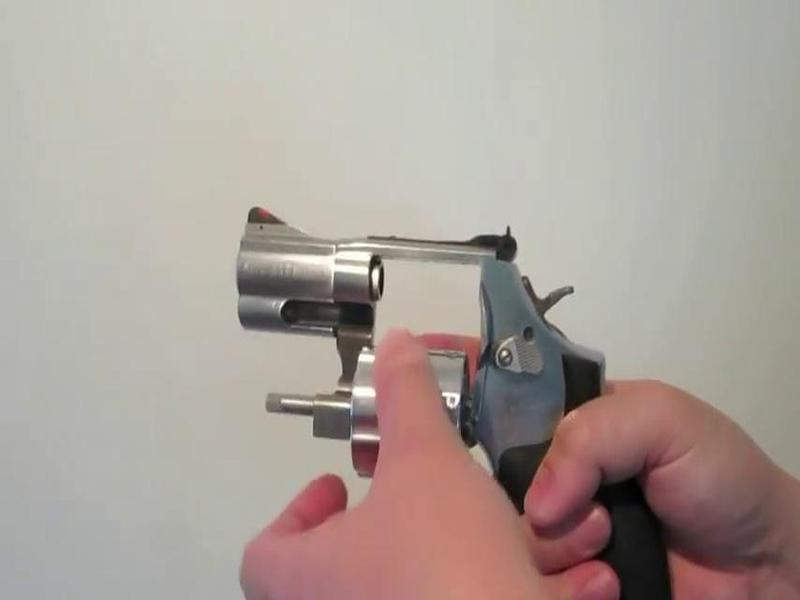Revolver: (229, 191, 687, 600)
